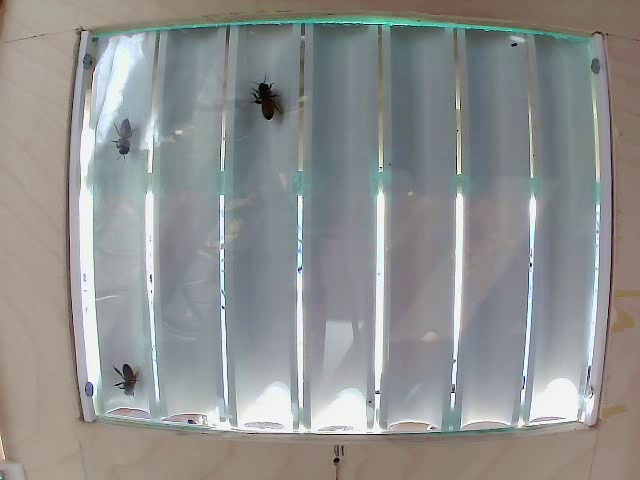bee: (245, 75, 285, 126), (111, 122, 142, 162), (107, 361, 147, 392)
